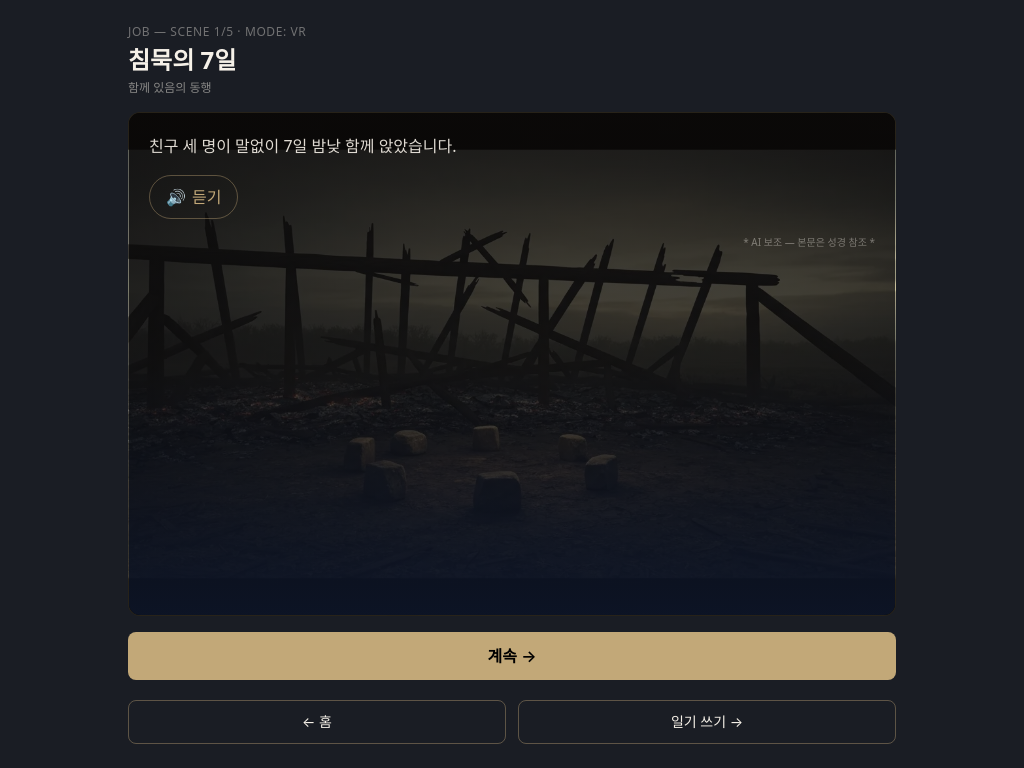
Test: 욥 미션 — 씬 상태 기계 › 진행 기록에 지나온 씬 제목이 쌓인다
Expected: the text "진행 기록" is not shown
Click the button "계속 →" at (512, 656), box [128,632,896,680]
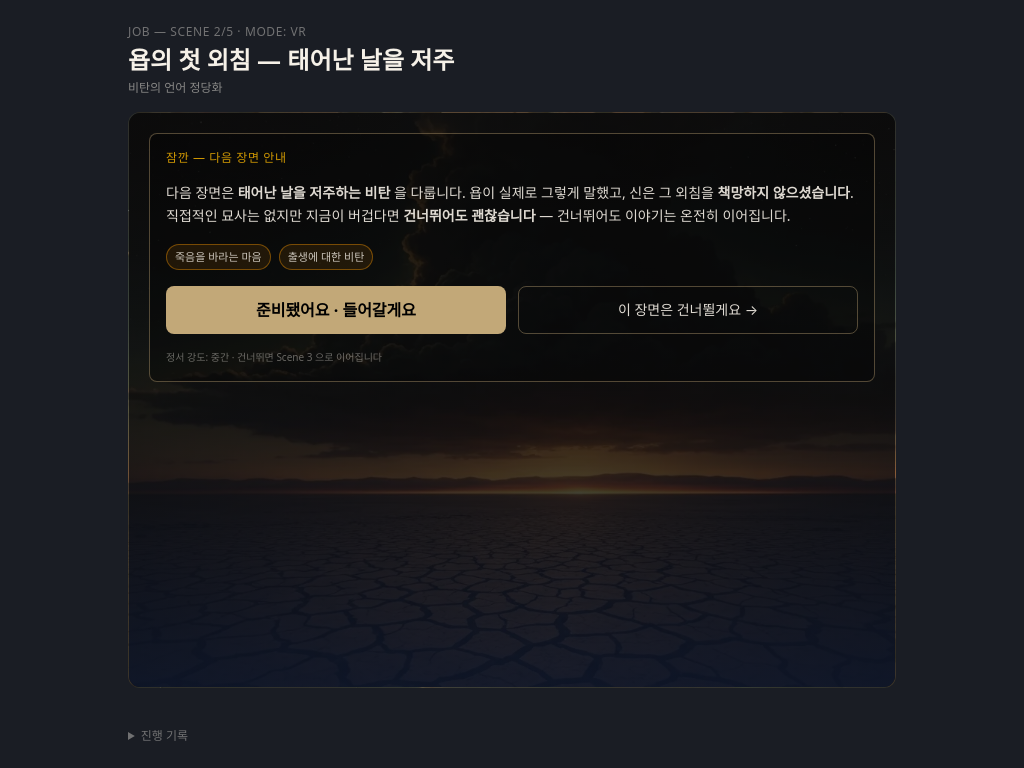
Now the text "태어난 날을 저주" is shown, box [128,43,454,76]
